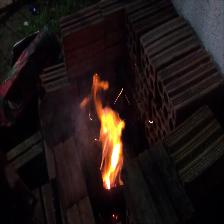fire: (72, 54, 151, 211)
